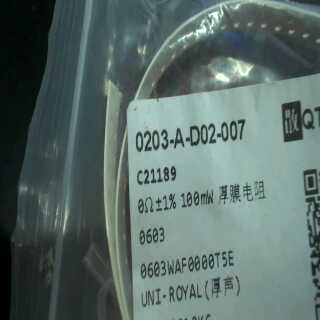0R: (134, 187, 217, 244)
